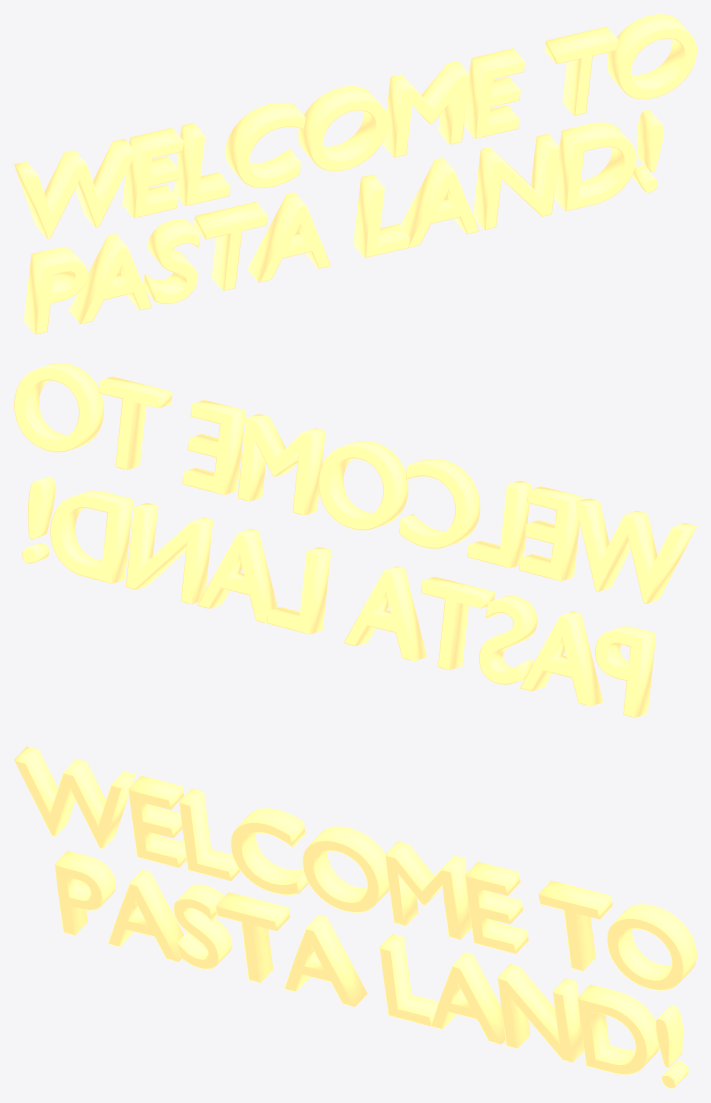
The picture shows the model from 3 angles, top to bottom: view 1: azimuth 30°, elevation 25°; view 2: azimuth 150°, elevation 25°; view 3: azimuth 330°, elevation 25°; orthographic projection.
Parts seen in each view (by area): view 1: Text; view 2: Text; view 3: Text.
Boxes of the visible parts, x1,y1,x2,y2 form: Text: (14, 14, 696, 334); Text: (14, 363, 696, 717); Text: (14, 746, 696, 1088).
Bounding box in the file's own units: 14.46 × 3.83 × 1.49.
